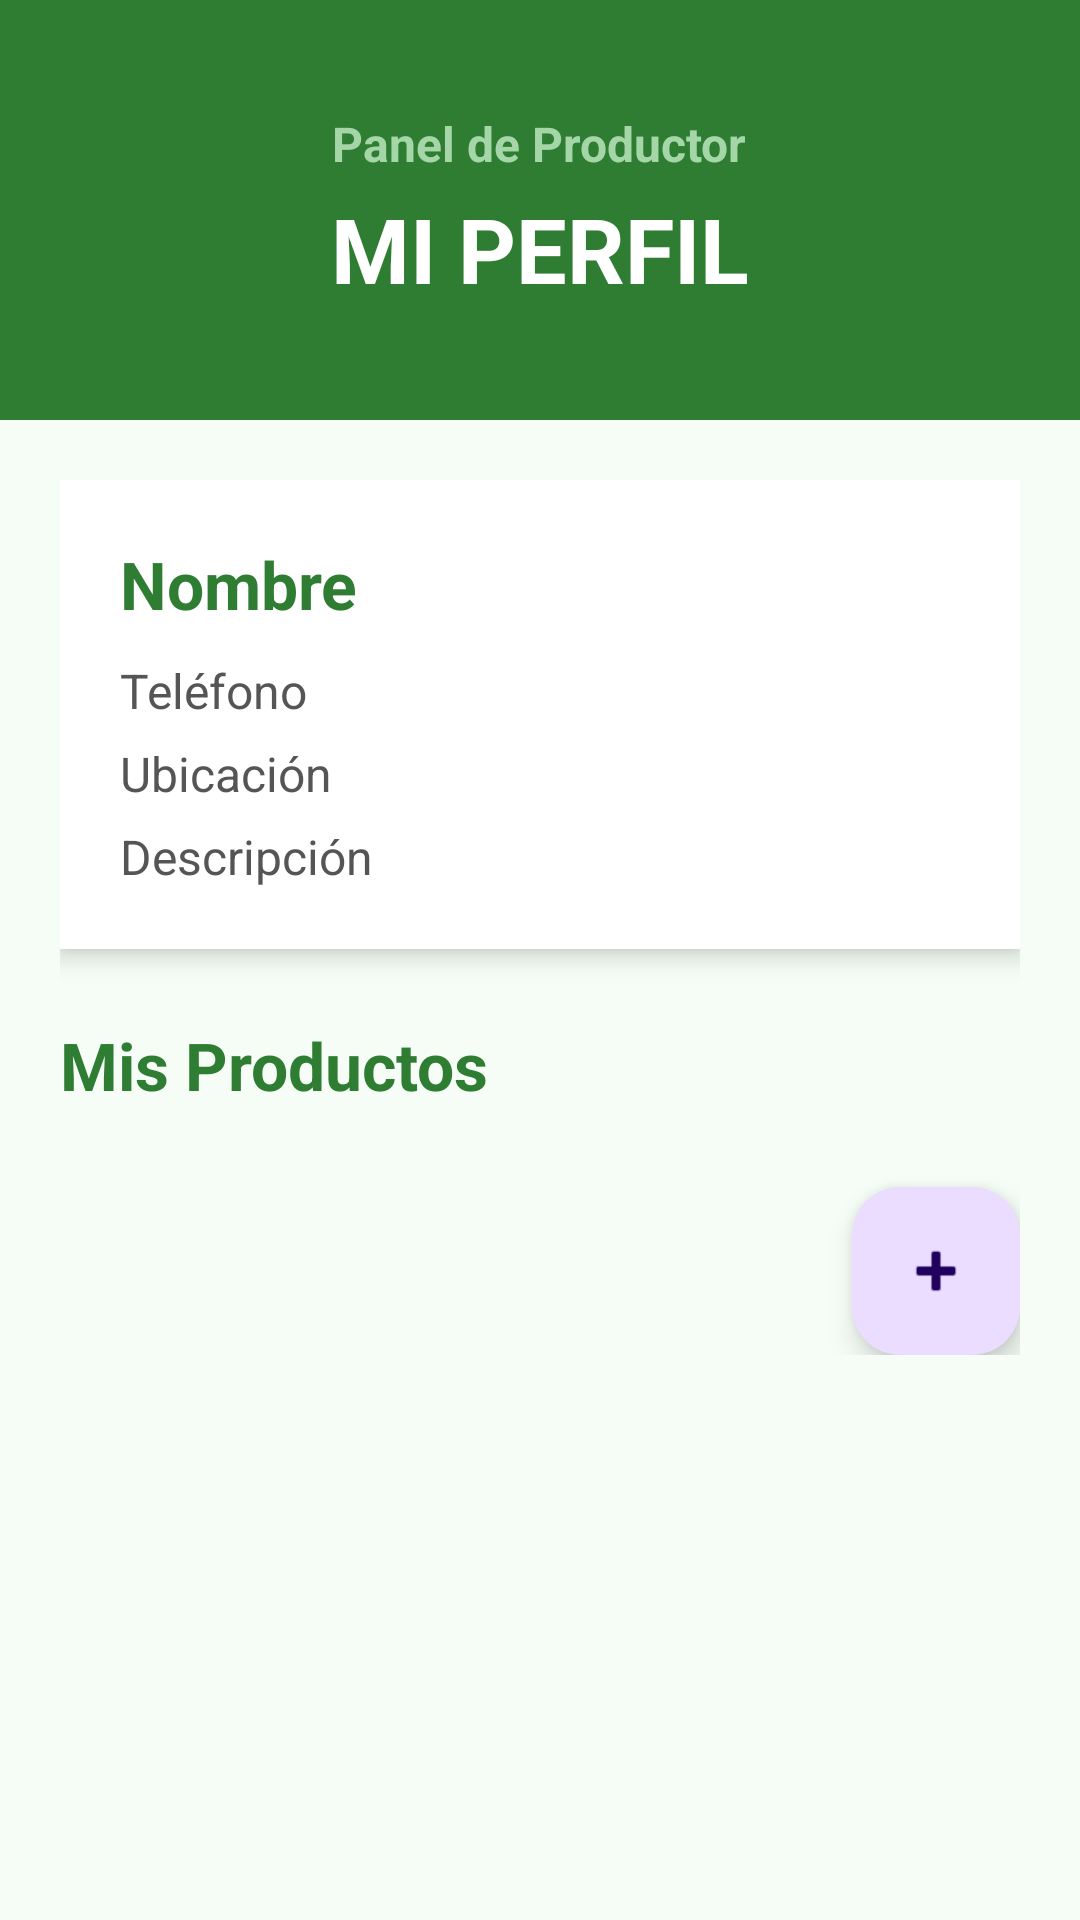

Screen size 1080px×1920px. Icon name, then its box in pixels as (x1=x1, y1=y1, x2=x2, y2=y2):
Agregar producto: (x1=852, y1=1187, x2=1020, y2=1355)
